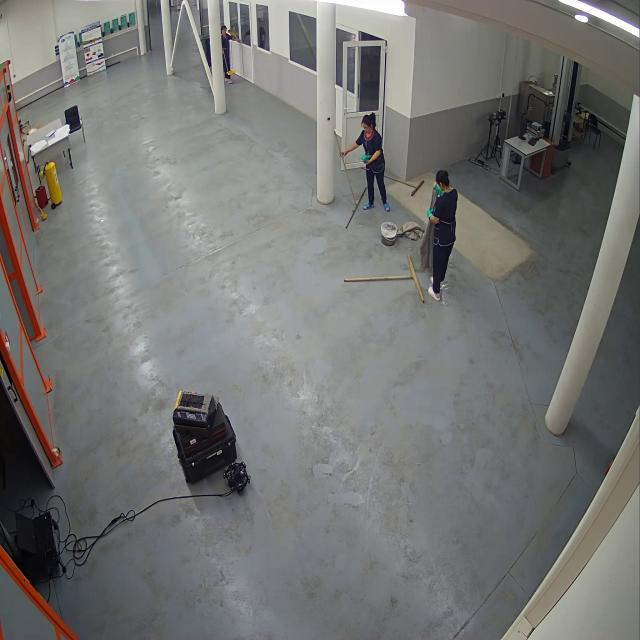NO-Hardhat: (359, 111, 379, 125), (433, 171, 450, 182), (221, 21, 229, 32)
Person: (340, 110, 392, 214), (424, 167, 460, 305), (220, 23, 238, 82)
